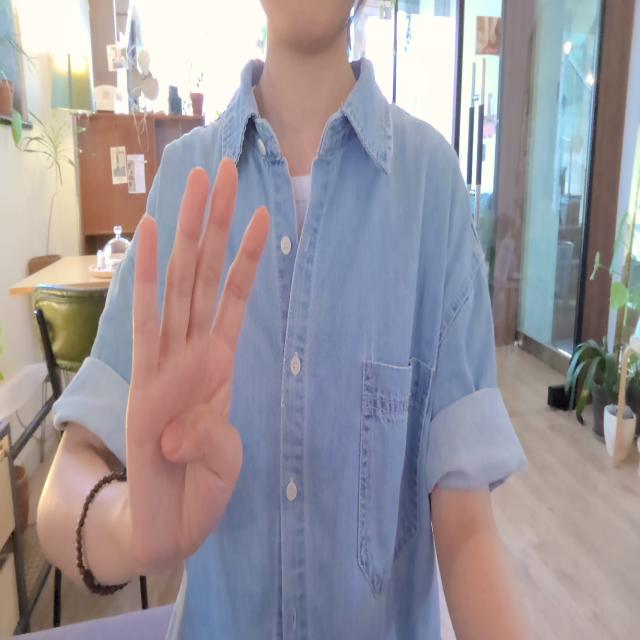bieup: (87, 139, 297, 590)
